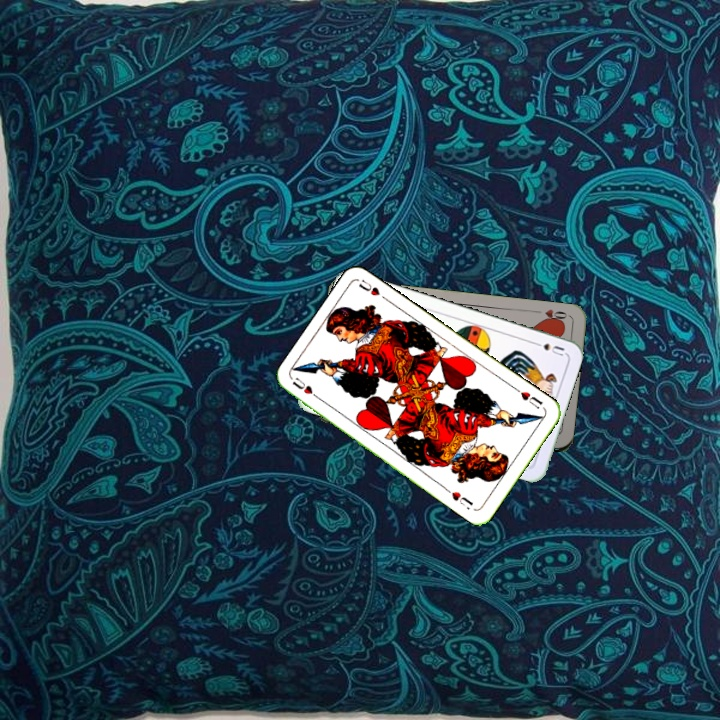HO: (530, 305, 571, 326)
HU: (288, 373, 324, 403), (511, 384, 545, 411)
SU: (528, 338, 567, 359)
